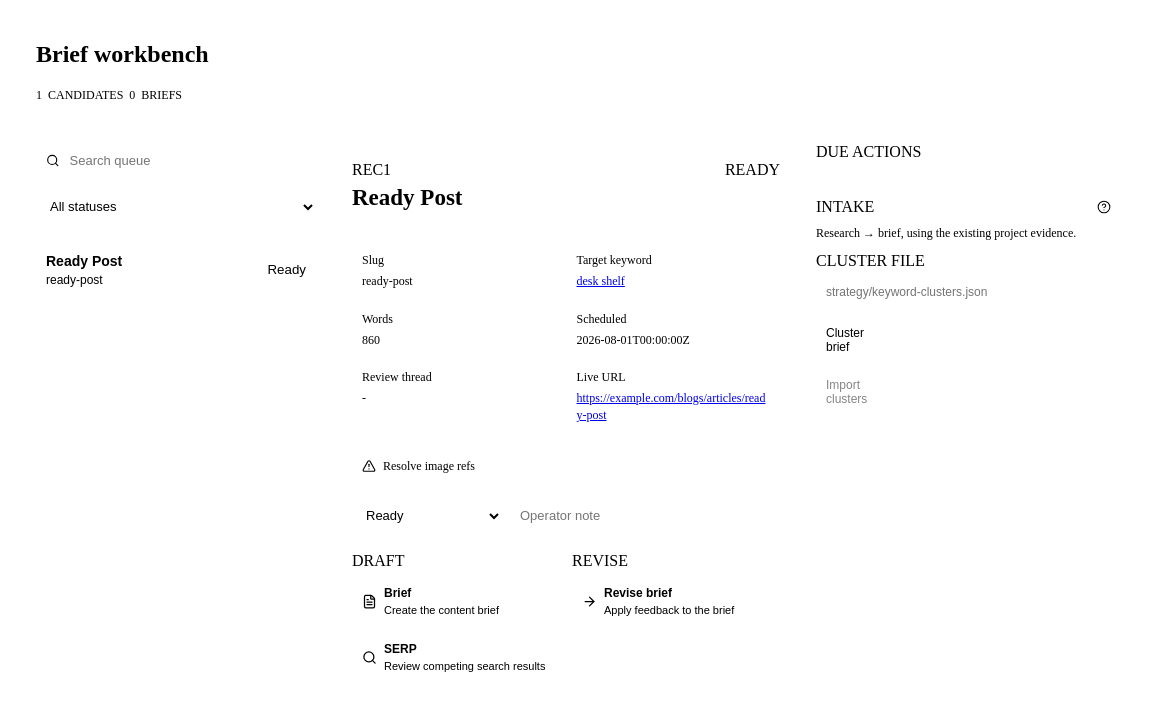
Test: workbench frontend › keeps brief drafting separate from production
This screenshot has width=1152, height=703.
Expected: the heading "Brief workbench" is shown, [36,41,209,67]
Click the button "Brief Create the content brief". click: (456, 602)
box: [352,578,560,626]
(page scrolled)
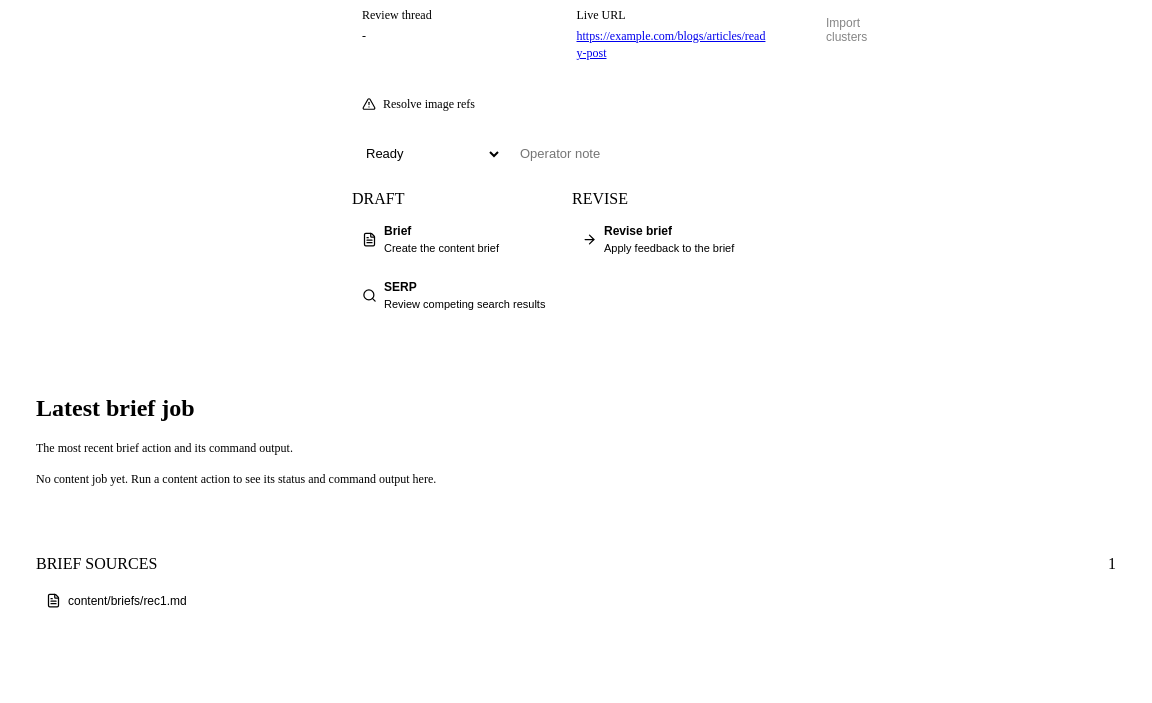
Expected: the text "content/briefs/rec1.md" is shown, [68,594,187,608]
